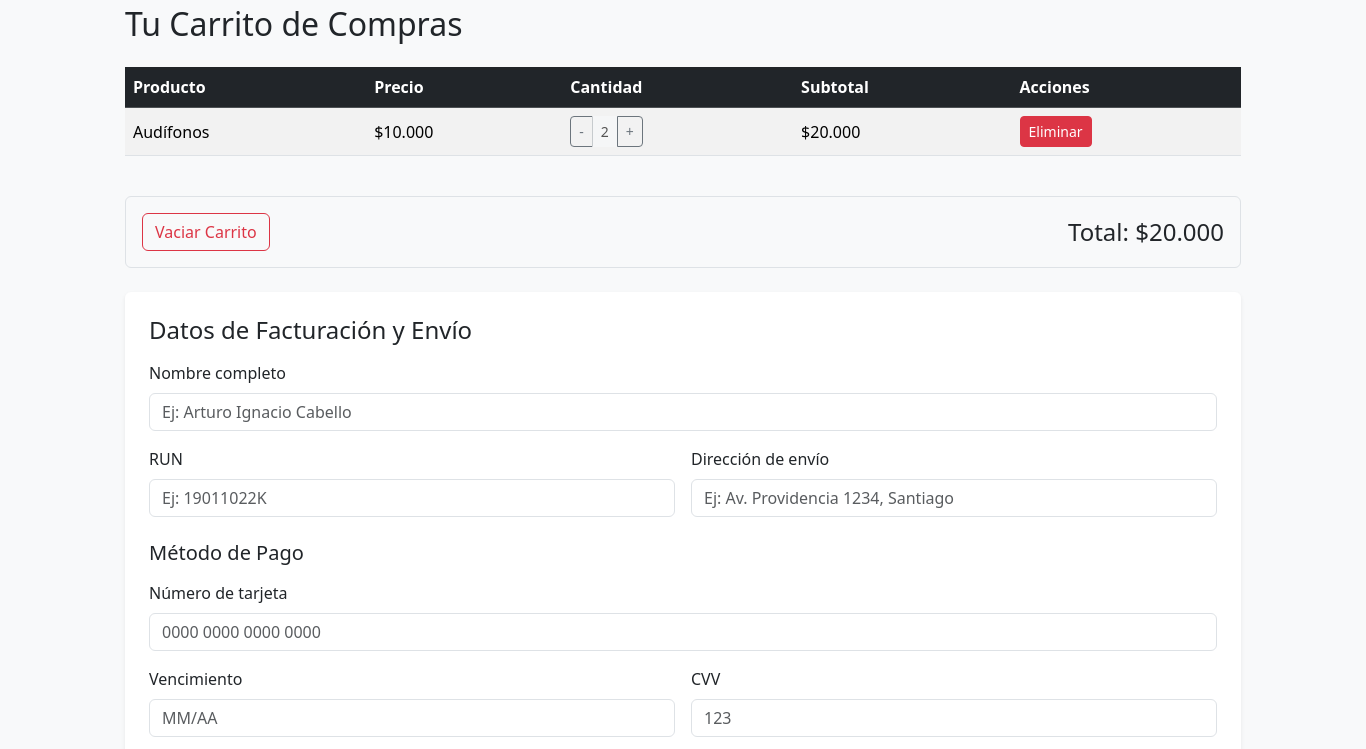
Checkout del carrito › rechaza una tarjeta vencida
The width and height of the screenshot is (1366, 749).
Type "Ana Pérez" into the field with test id "pago-nombre" at (683,412), box 149,393 -> 1217,431
Type "19011022K" into the field with test id "pago-run" at (412,498), box 149,479 -> 675,517
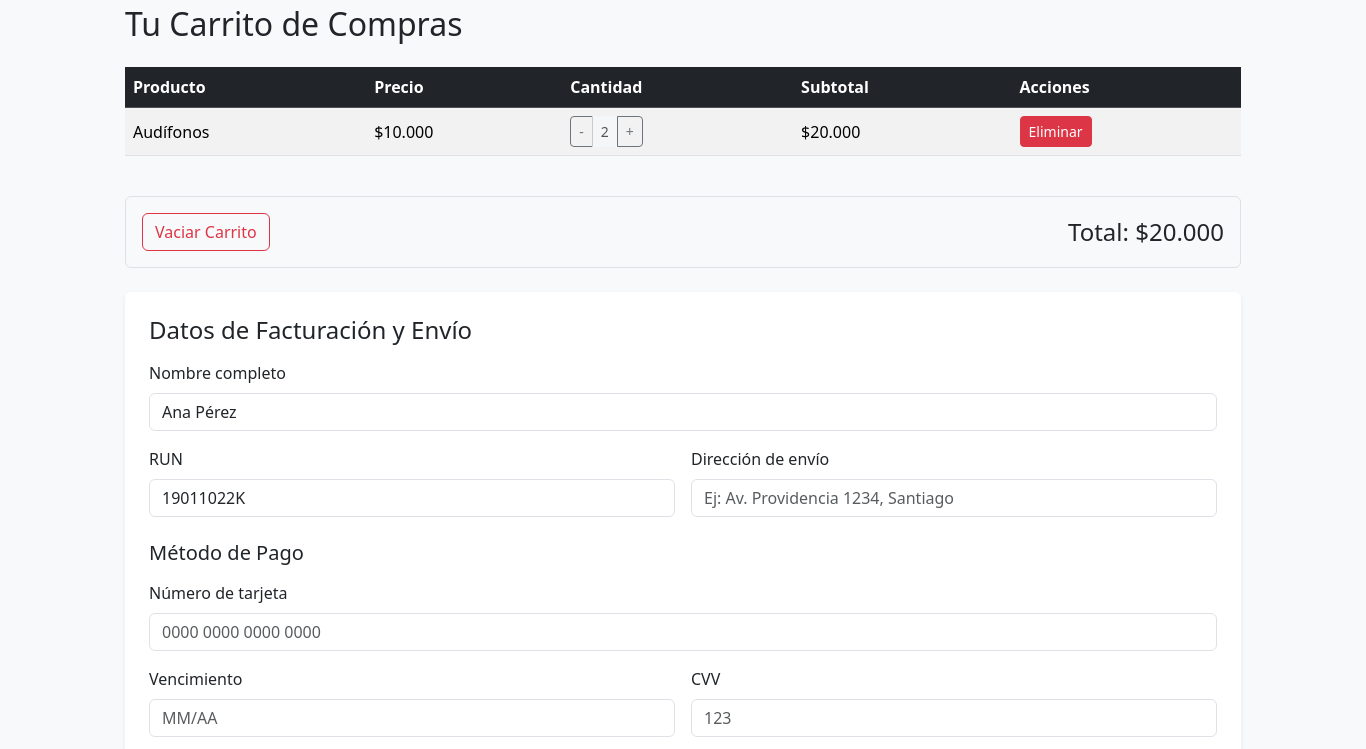
Type "Av. Providencia 123" into the field with test id "pago-direccion" at (954,498), box 691,479 -> 1217,517
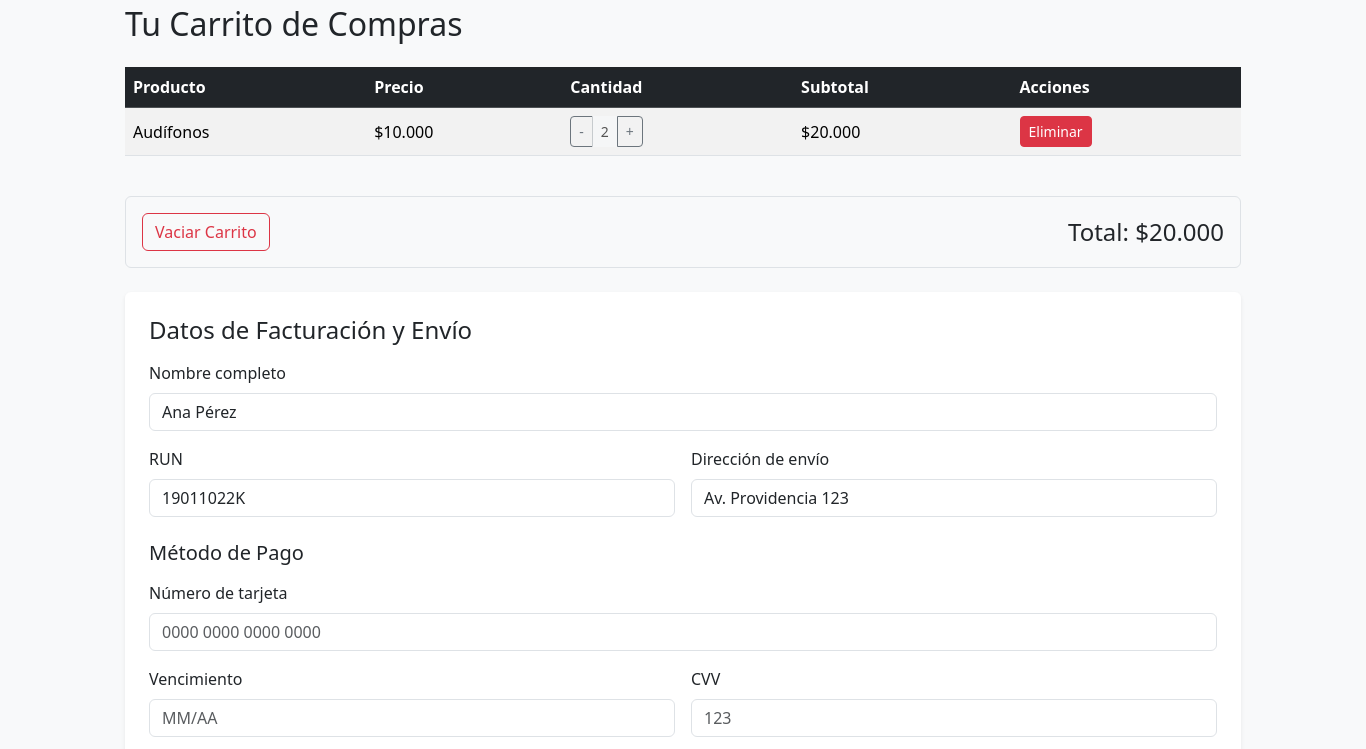
Type "1234567812345678" into the field with test id "pago-tarjeta" at (683,632), box 149,613 -> 1217,651
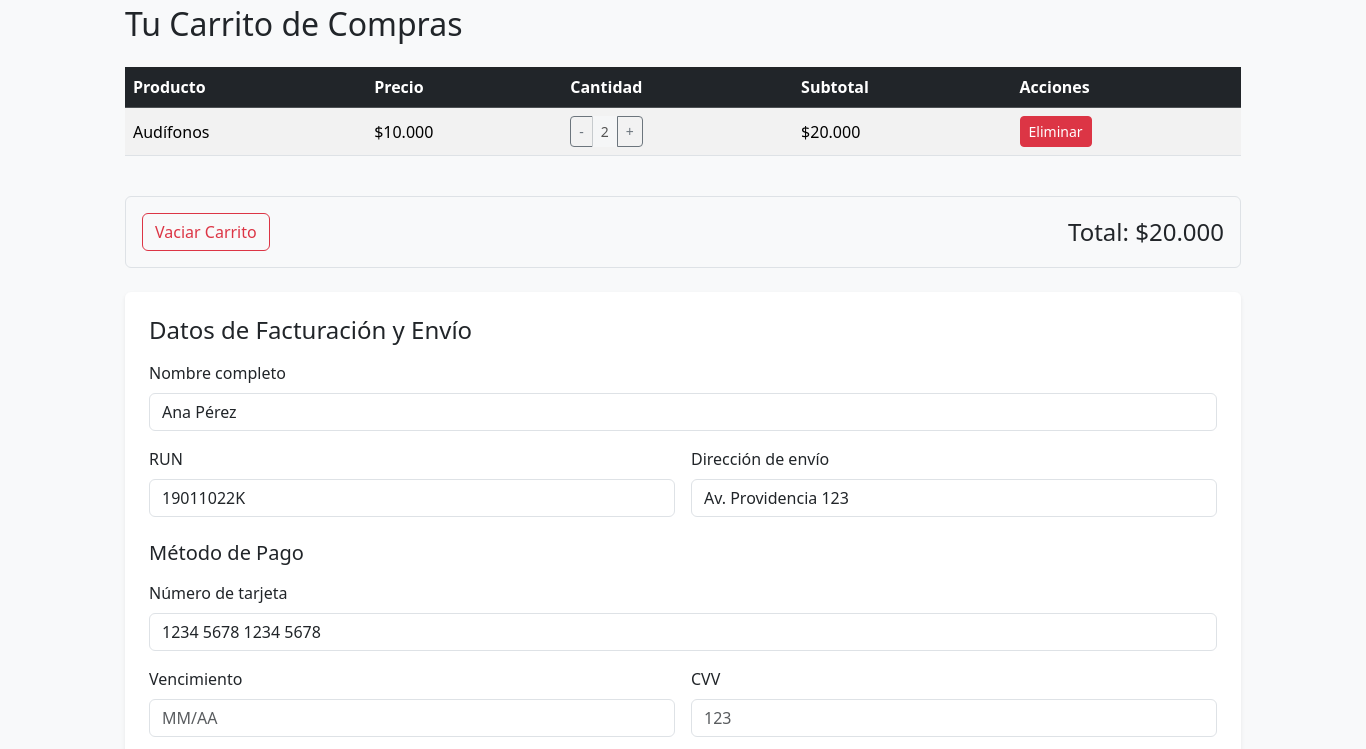
Type "0120" into the field with test id "pago-vencimiento" at (412,718), box 149,699 -> 675,737
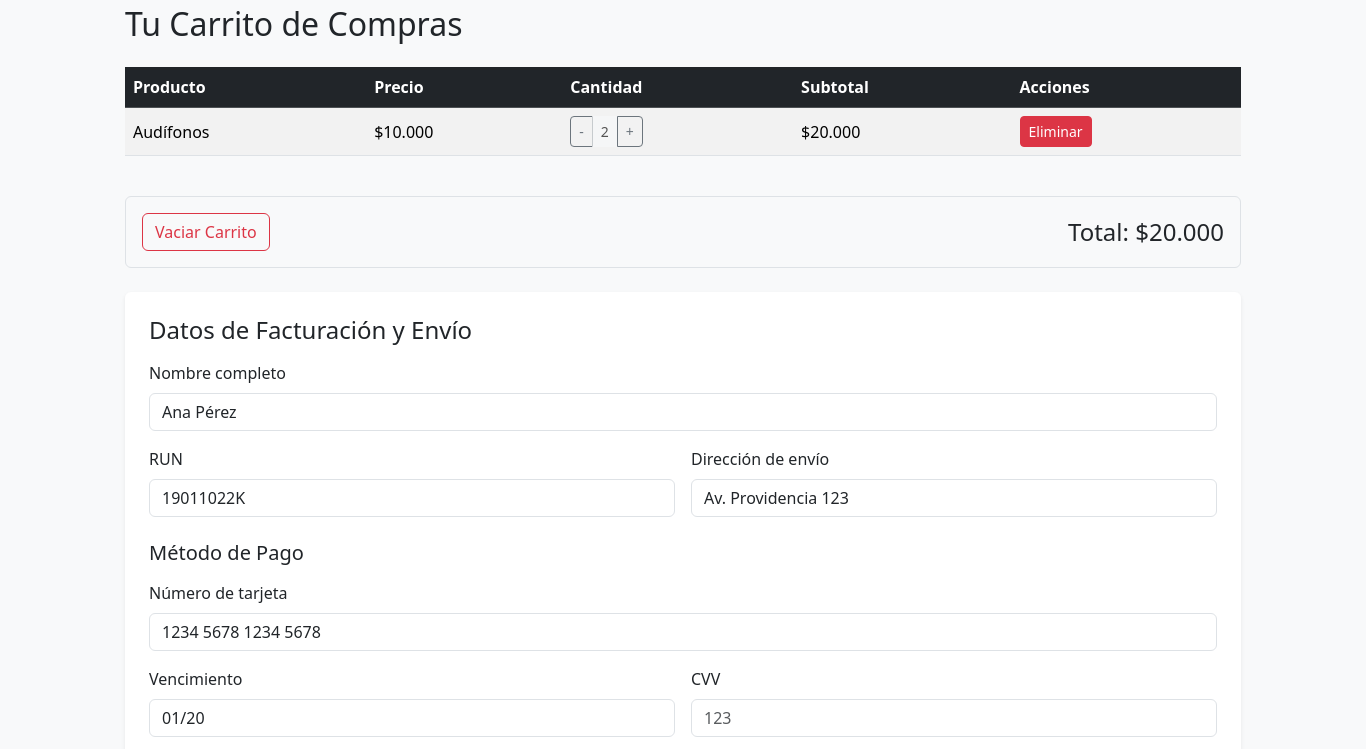
Type "123" into the password field with test id "pago-cvv" at (954,718), box 691,699 -> 1217,737
(page scrolled)
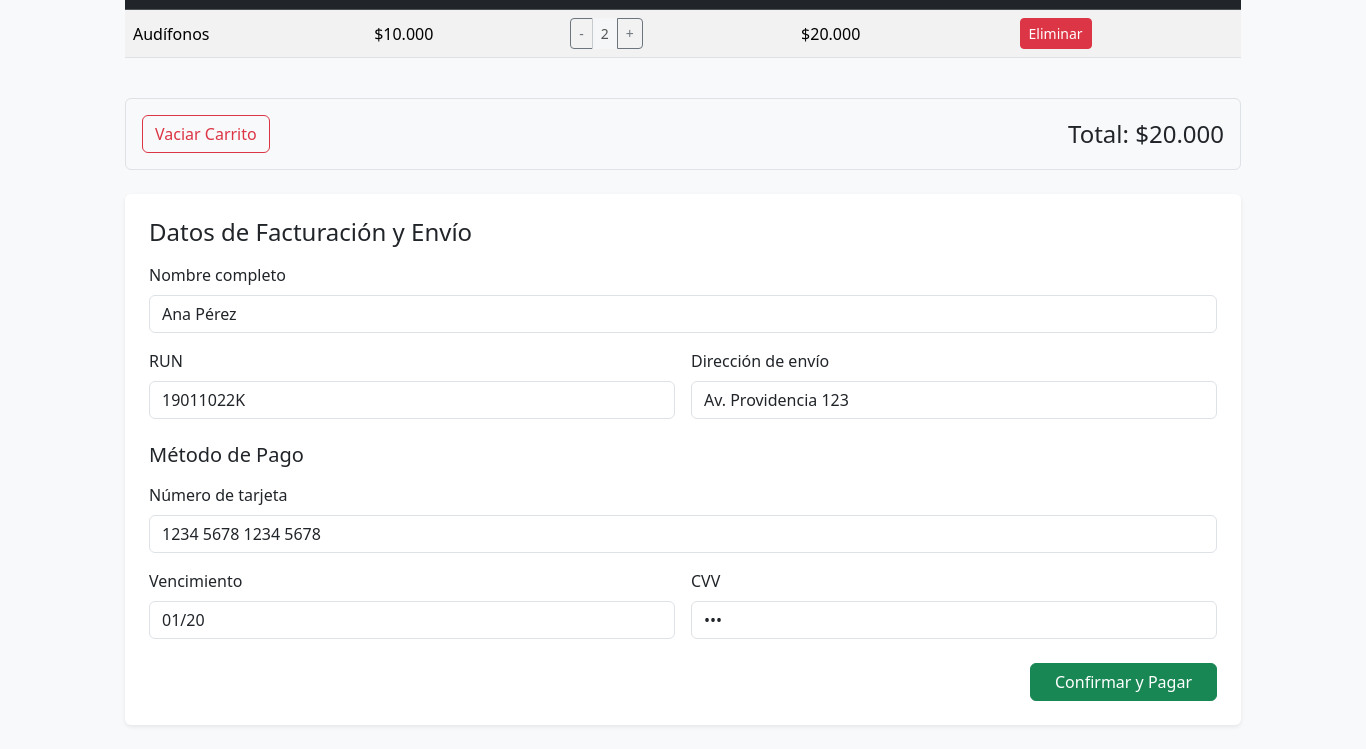
Click the button with test id "btn-pagar" at (1124,682), box 1030,663 -> 1217,701
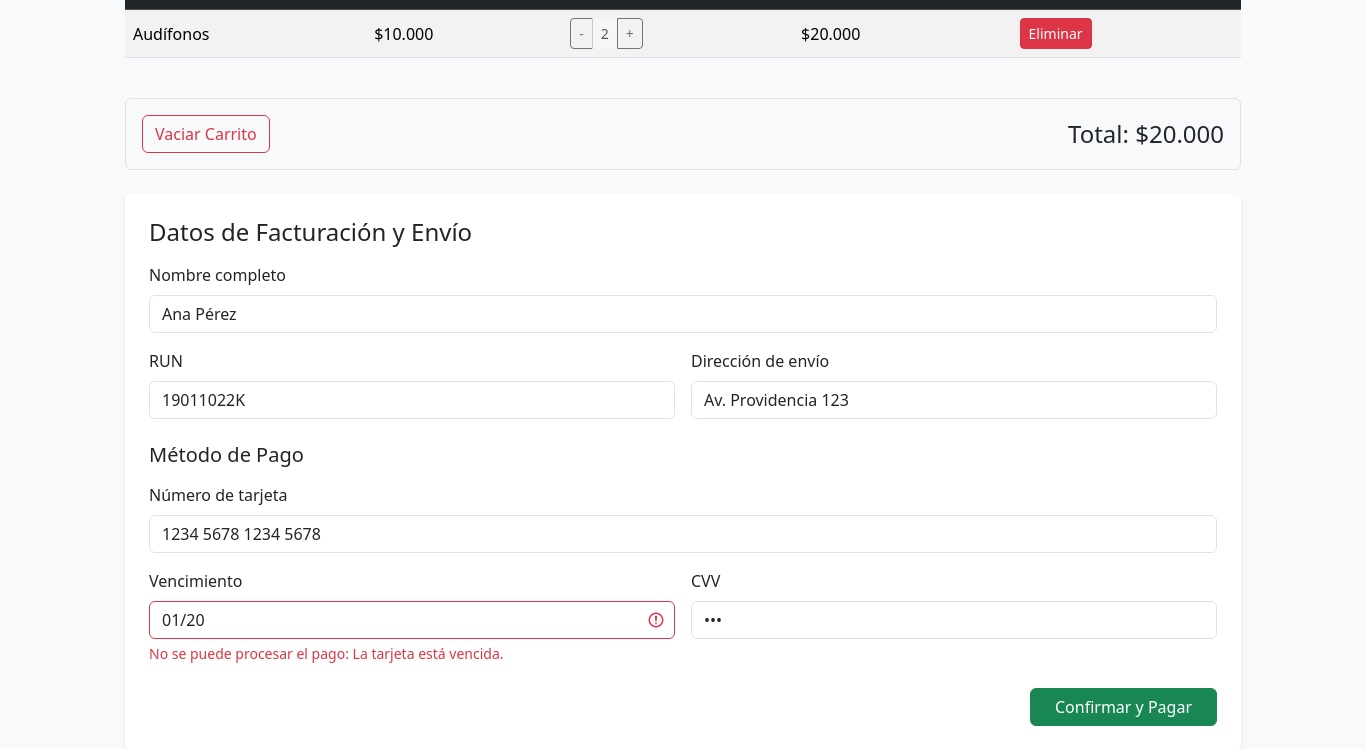
Check: the text with test id "error-pago-vencimiento" shows "vencida", box 149,644 -> 504,663
